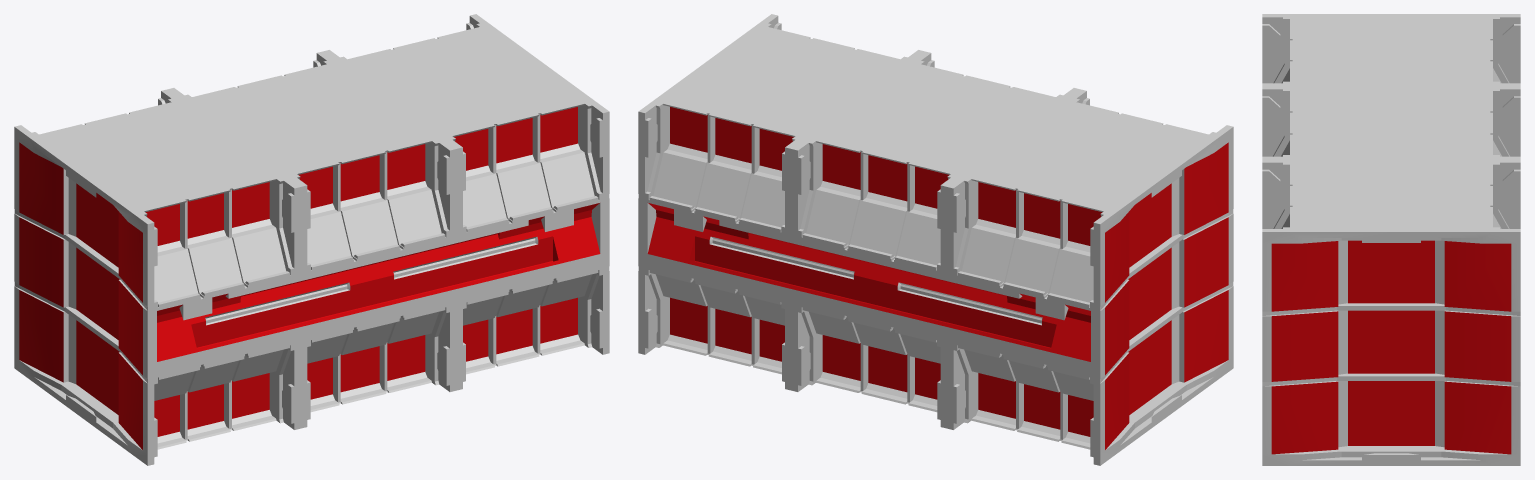
The model's file is Scifi2_Prop_ContainerA.fbx.
3 views of the same model, side by side, from view 1: azimuth 30°, elevation 25°; view 2: azimuth 150°, elevation 25°; view 3: azimuth 270°, elevation 25° (orthographic). The views are drawn at different scales.
Visible parts, largest first — view 1: Cube.001; view 2: Cube.001; view 3: Cube.001.
Part boxes in pixels (box(x1,y1,x2,y2)): Cube.001: box(14, 14, 609, 465); Cube.001: box(638, 14, 1233, 465); Cube.001: box(1262, 14, 1520, 465).
Size of the model in its own units: 1600 by 800 by 800.
